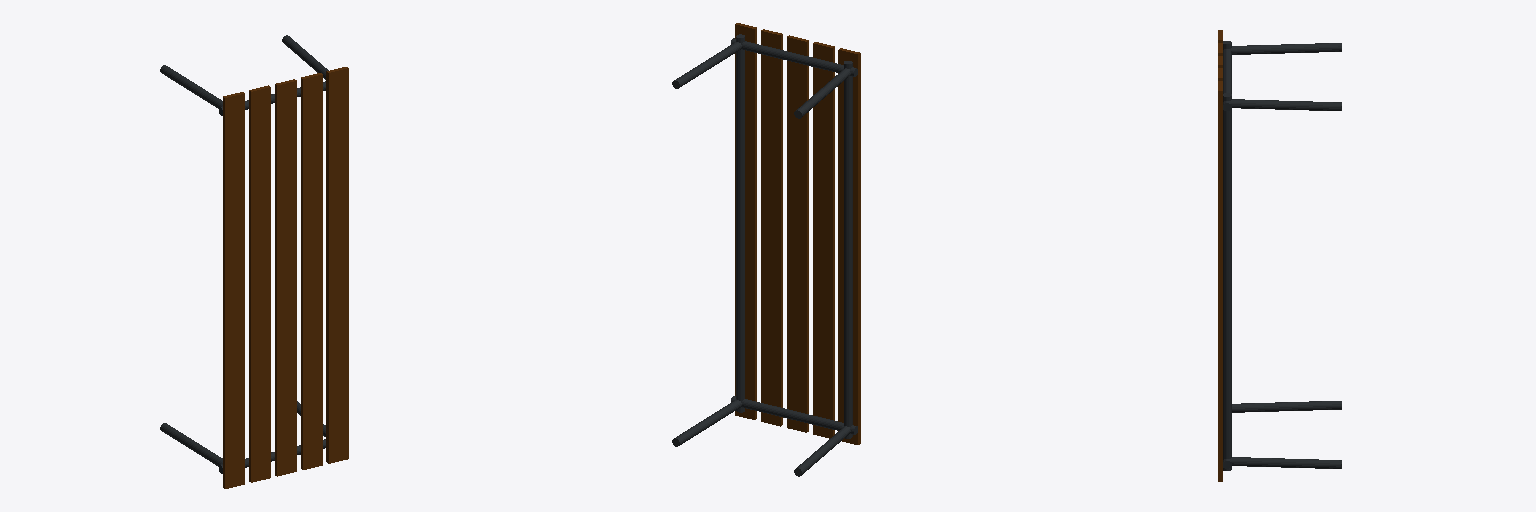
The model's file is tinker.obj.
3 renders of one model, left to right at view 1: azimuth 30°, elevation 25°; view 2: azimuth 150°, elevation 25°; view 3: azimuth 270°, elevation 25°, orthographic.
Visible parts, largest first — view 1: obj_0; view 2: obj_0; view 3: obj_0.
Boxes of the visible parts, box(x1,y1,x2,y2) form: obj_0: box(160, 35, 348, 488); obj_0: box(672, 23, 860, 476); obj_0: box(1218, 30, 1341, 481).
Bounding box in the file's own units: 32.74 × 94 × 27.04.